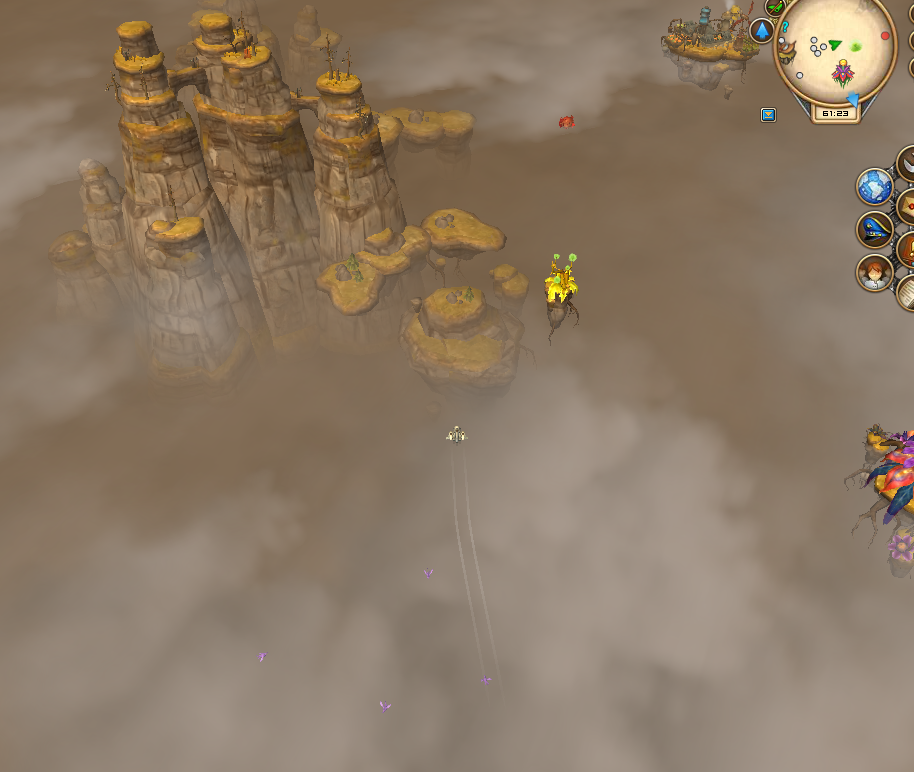dandelion-full: (541, 249, 584, 332)
